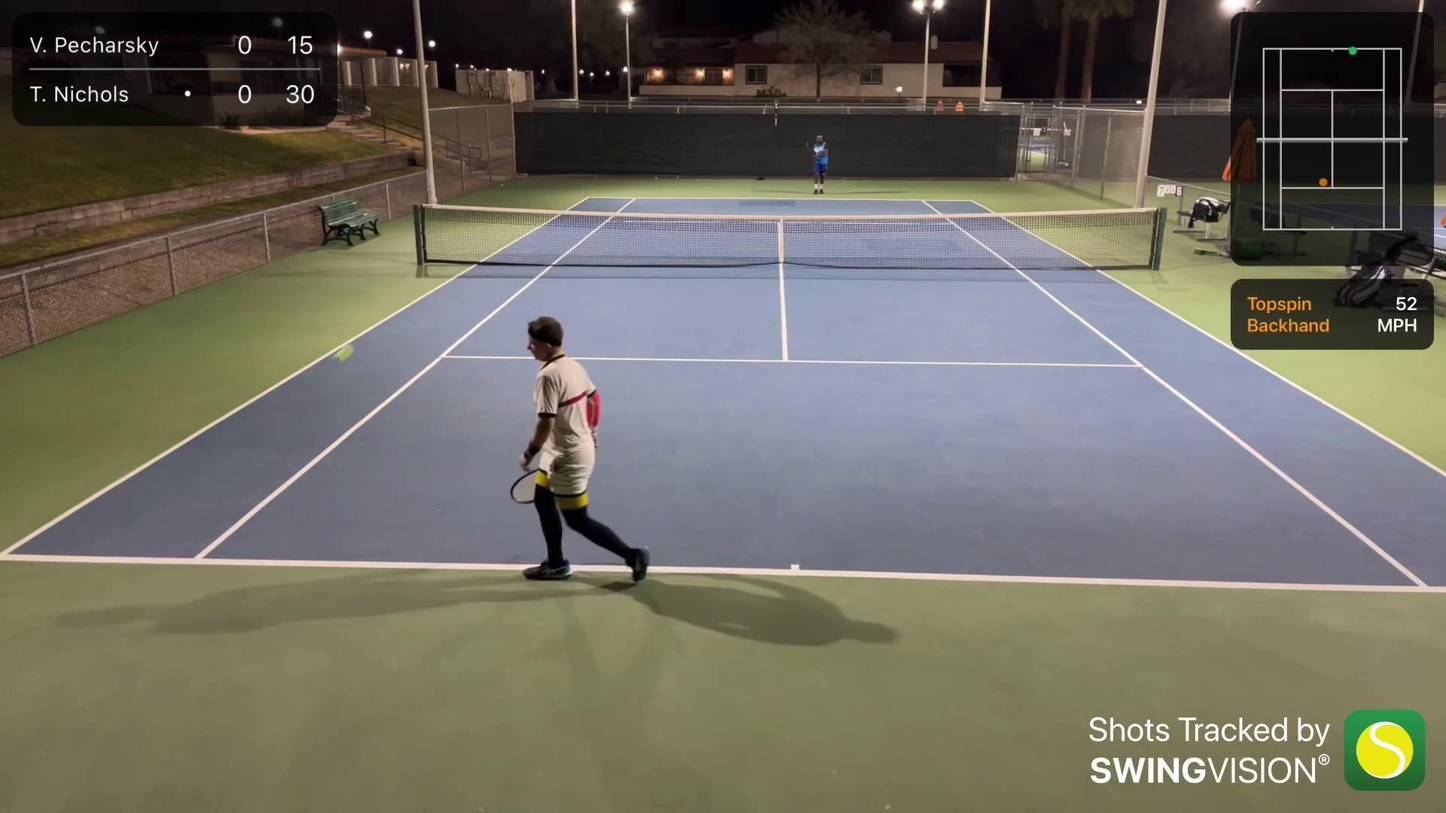ball: (332, 347, 349, 362)
